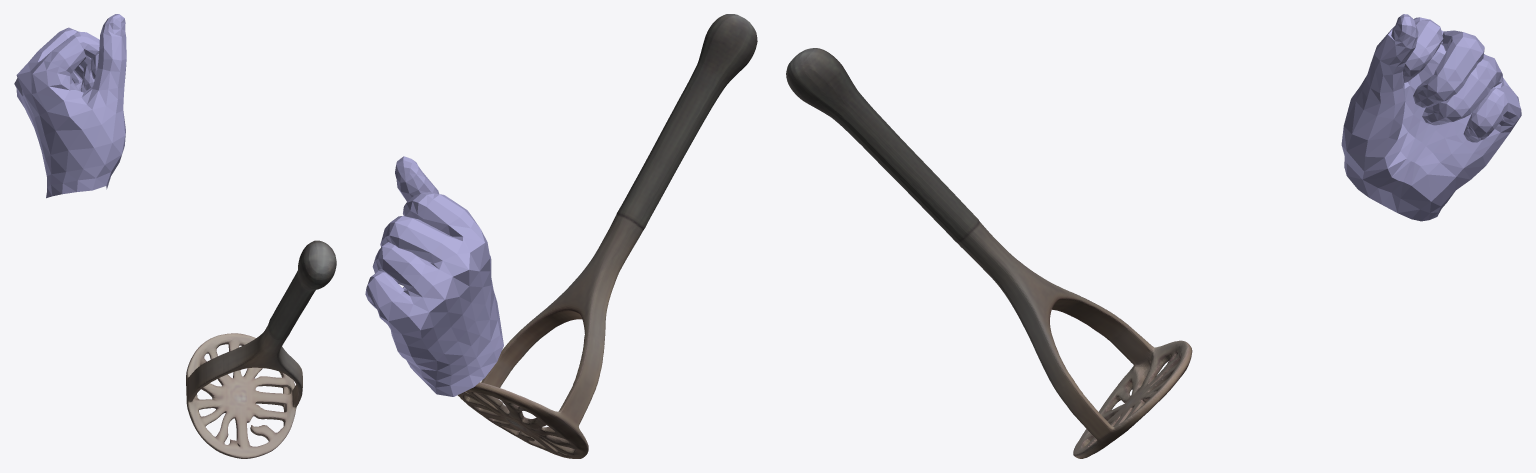
File: frame_0038_source_000038_hand_object.glb
3 renders of one model, left to right at view 1: azimuth 30°, elevation 25°; view 2: azimuth 150°, elevation 25°; view 3: azimuth 270°, elevation 25°, orthographic. The views are drawn at different scales.
Visible parts, largest first — view 1: world; view 2: world; view 3: world.
Boxes of the visible parts, x1,y1,x2,y2 form: world: (14, 14, 336, 458); world: (365, 14, 757, 458); world: (786, 14, 1521, 458).
Size of the model in its own units: 0.1032 by 0.2439 by 0.3761.
